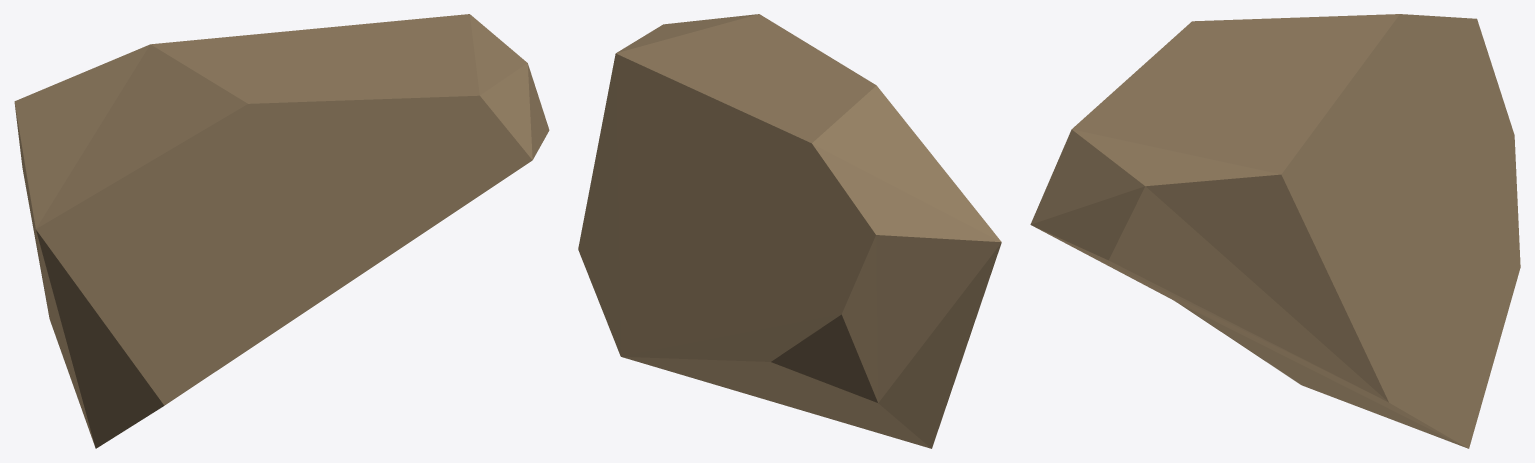
File: Rock14.fbx
3 renders of one model, left to right at view 1: azimuth 30°, elevation 25°; view 2: azimuth 150°, elevation 25°; view 3: azimuth 270°, elevation 25°, orthographic. The views are drawn at different scales.
Visible parts, largest first — view 1: Rock14; view 2: Rock14; view 3: Rock14.
Part boxes in pixels (x1,y1,x2,y2): Rock14: (14,14,549,448); Rock14: (578,14,1001,448); Rock14: (1030,14,1520,448).
Size of the model in its own units: 9.62 by 7.28 by 7.56.
